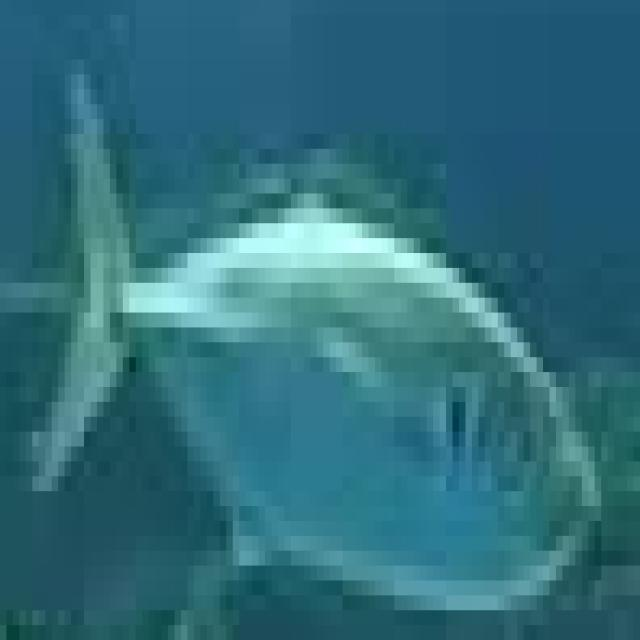fish: (0, 15, 634, 640)
